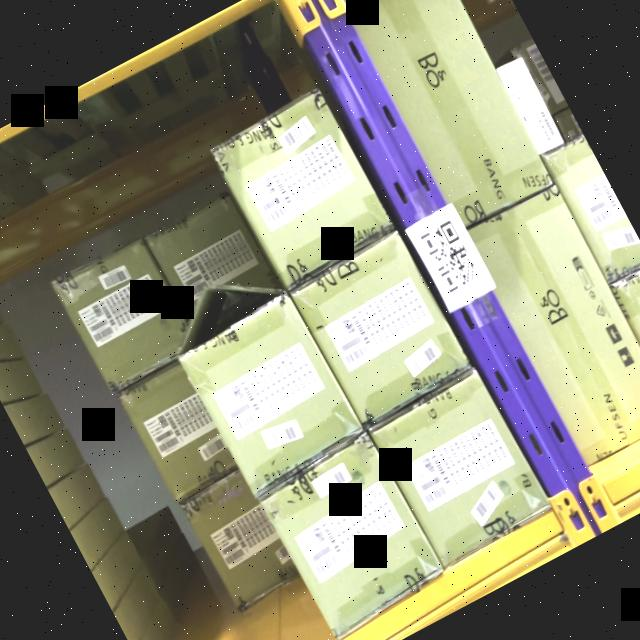box: (175, 292, 367, 498), (208, 85, 396, 288), (288, 228, 473, 430), (258, 438, 442, 632), (370, 372, 552, 566)
